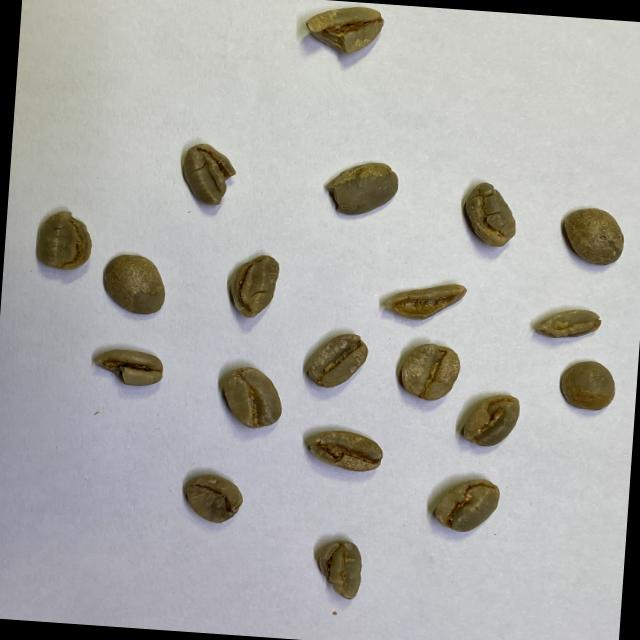bad: (322, 158, 401, 220), (302, 2, 386, 56), (460, 179, 520, 250), (178, 140, 240, 208), (432, 474, 501, 534), (383, 277, 468, 325), (33, 208, 95, 271), (306, 427, 386, 474), (459, 390, 522, 449), (180, 470, 247, 525), (226, 252, 280, 320), (315, 538, 366, 601), (92, 345, 165, 388), (534, 306, 602, 342)
good: (99, 250, 170, 318), (217, 364, 286, 432), (559, 204, 628, 268), (396, 339, 462, 402), (305, 330, 370, 390), (556, 358, 618, 412)
